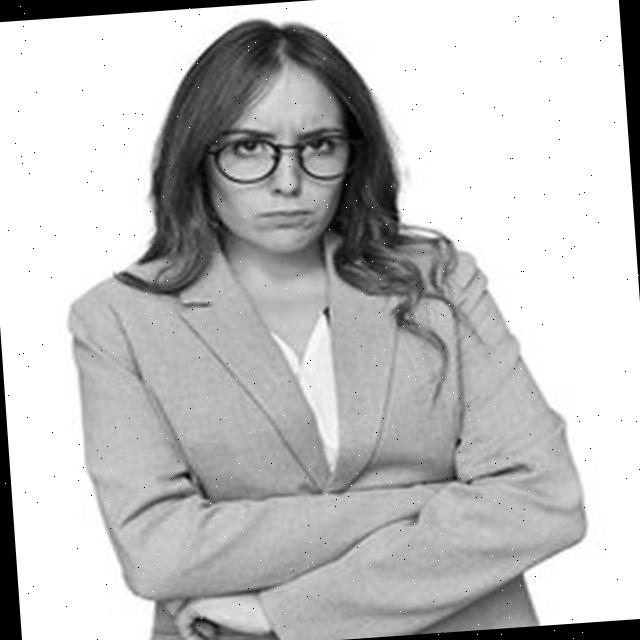Angry: (200, 67, 354, 257)
